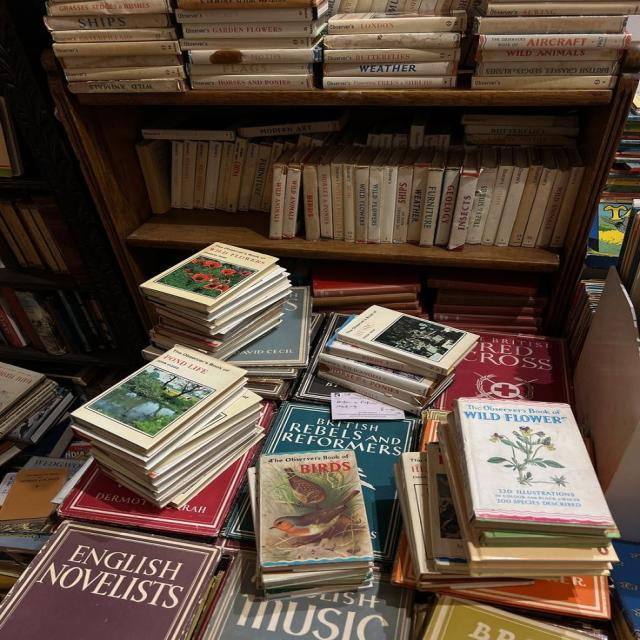book: (463, 400, 590, 522), (255, 448, 372, 576), (265, 404, 414, 486), (426, 568, 608, 620), (416, 445, 472, 564), (538, 149, 572, 248), (508, 150, 542, 248), (468, 147, 500, 246), (435, 146, 463, 247), (408, 147, 430, 243), (238, 138, 261, 211), (283, 157, 303, 240), (329, 149, 347, 241), (302, 155, 321, 239), (367, 151, 384, 243), (388, 168, 404, 243), (204, 140, 221, 210), (181, 141, 196, 209)
